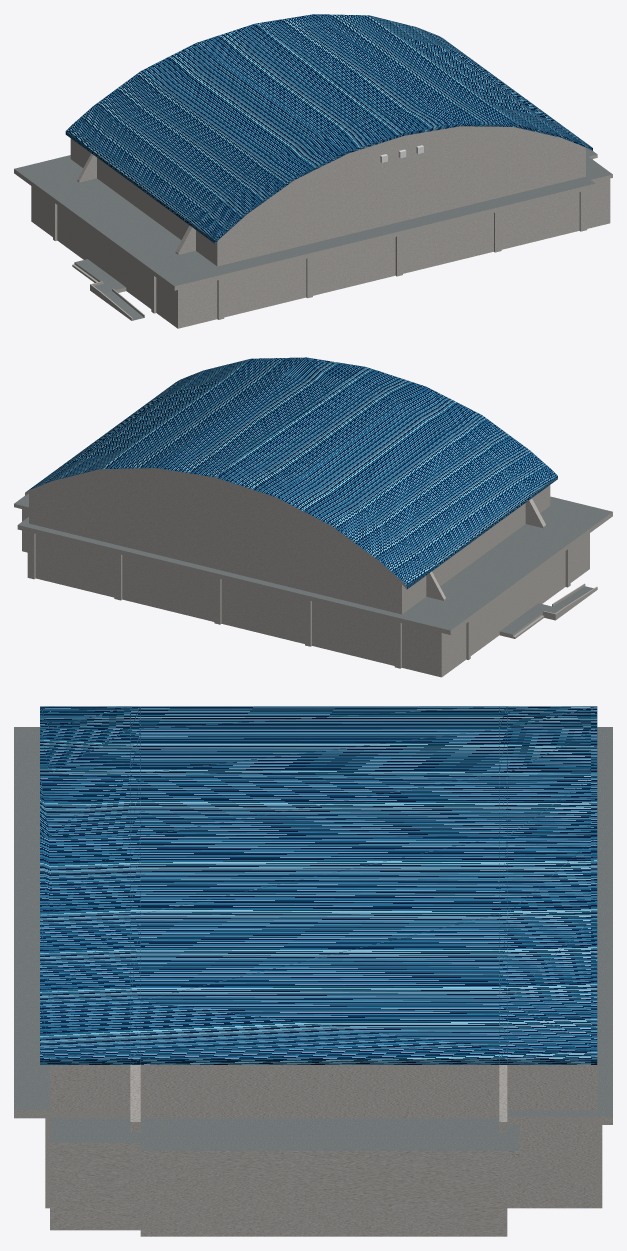
Rendered from gym.fbx.
3 views of the same model, one above another, from view 1: azimuth 30°, elevation 25°; view 2: azimuth 150°, elevation 25°; view 3: azimuth 270°, elevation 25° (orthographic). The views are drawn at different scales.
Visible parts, largest first — view 1: Cube; view 2: Cube; view 3: Cube.
Boxes of the visible parts, x1=… form: Cube: x1=14, y1=14, x2=612, y2=328; Cube: x1=14, y1=357, x2=612, y2=677; Cube: x1=14, y1=706, x2=612, y2=1236.
Size of the model in its own units: 2234 by 649 by 1319.
